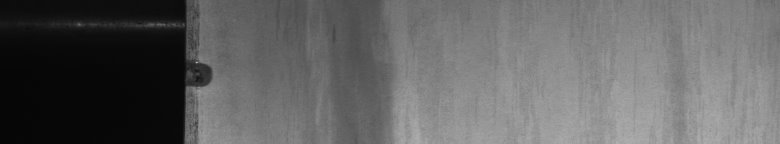hb: (196, 4, 219, 136)
